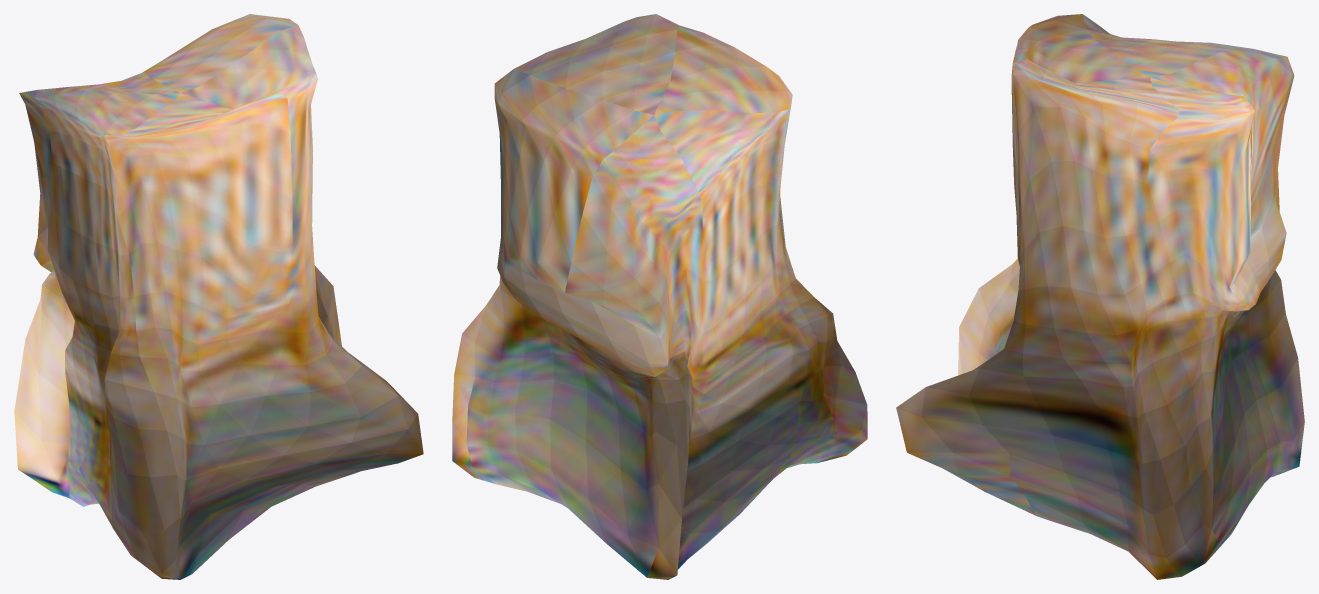
3 views of the same model, side by side, from view 1: azimuth 30°, elevation 25°; view 2: azimuth 150°, elevation 25°; view 3: azimuth 270°, elevation 25° (orthographic). The views are drawn at different scales.
Parts seen in each view (by area): view 1: pMesh1; view 2: pMesh1; view 3: pMesh1.
Part boxes in pixels (x1,y1,x2,y2): pMesh1: (14, 14, 423, 579); pMesh1: (452, 14, 867, 579); pMesh1: (896, 14, 1304, 579).
Bounding box in the file's own units: 2.21 × 3.02 × 2.34.
1 material, 1 textured.
